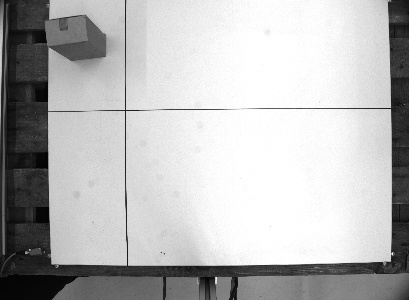b6: (39, 10, 110, 64)
